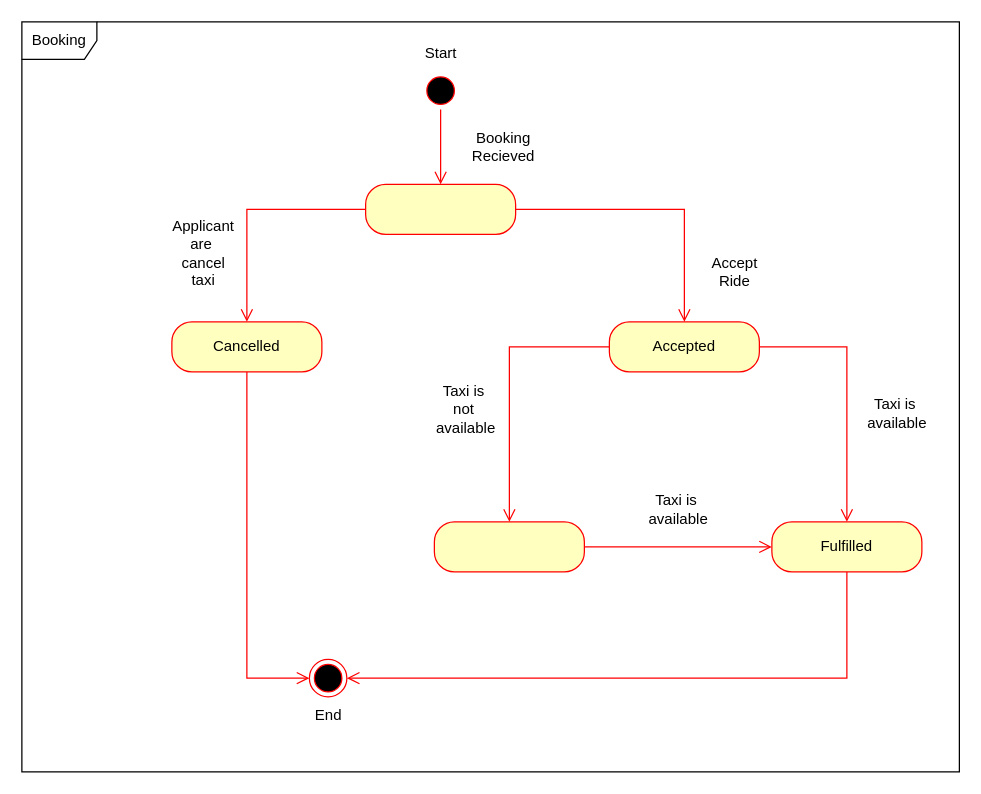
The diagram is 981 pixels wide and 794 high, and some of its shapes have lost their labels. Here are the shapes that lost their labels. From the top down, the centre of each, then its label:
point 440,208: Unprocessed
point 508,546: Pending
